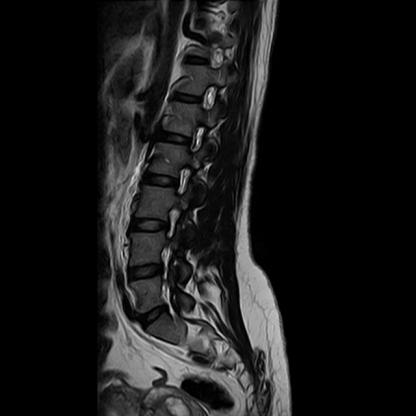Disc Bulgerotation: (124, 263, 165, 285), (135, 306, 173, 325)
